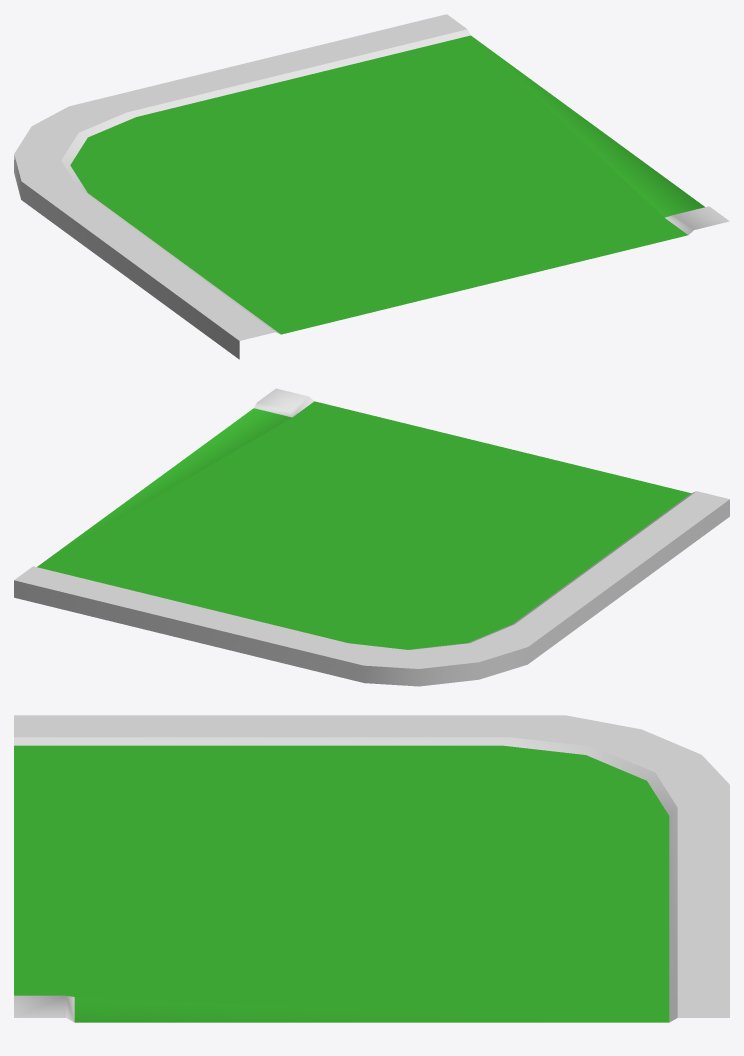
File: GrassBed_1_B_10.fbx
3 views of the same model, one above another, from view 1: azimuth 30°, elevation 25°; view 2: azimuth 150°, elevation 25°; view 3: azimuth 270°, elevation 25° (orthographic). The views are drawn at different scales.
Visible parts, largest first — view 1: GrassBed_1_B_10; view 2: GrassBed_1_B_10; view 3: GrassBed_1_B_10.
Part boxes in pixels (x1=…): GrassBed_1_B_10: x1=14, y1=14, x2=729, y2=359; GrassBed_1_B_10: x1=14, y1=388, x2=729, y2=686; GrassBed_1_B_10: x1=14, y1=715, x2=729, y2=1022.
Bounding box in the file's own units: 200 × 7.32 × 200.
